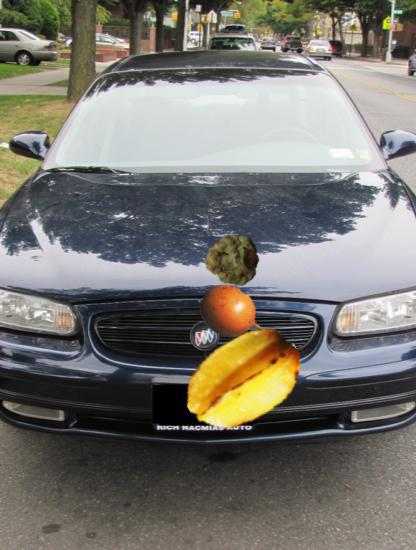Carambula: (181, 317, 306, 442)
Cauliflower: (206, 233, 262, 289)
Granadilla: (197, 278, 271, 352)
